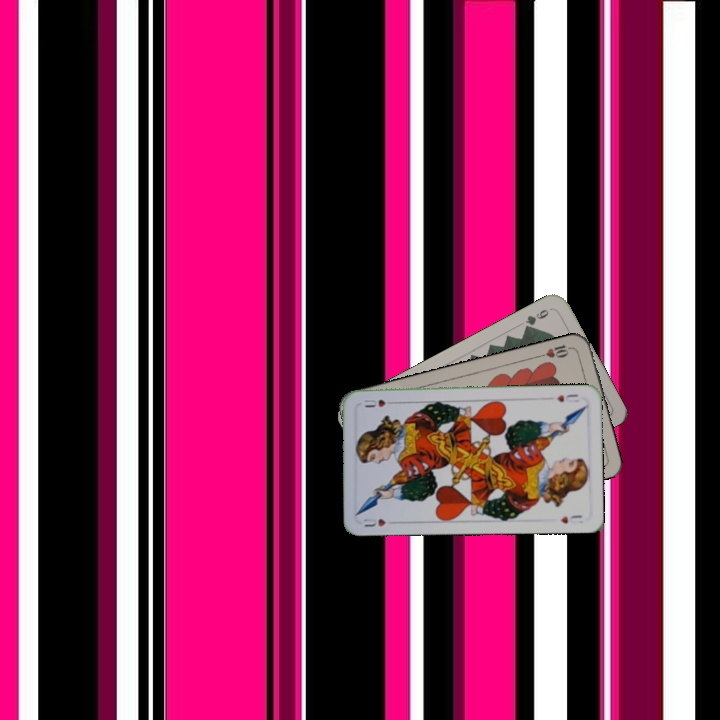G9: (520, 304, 555, 332)
H10: (535, 340, 575, 360)
HU: (359, 515, 399, 529), (552, 390, 581, 405)
